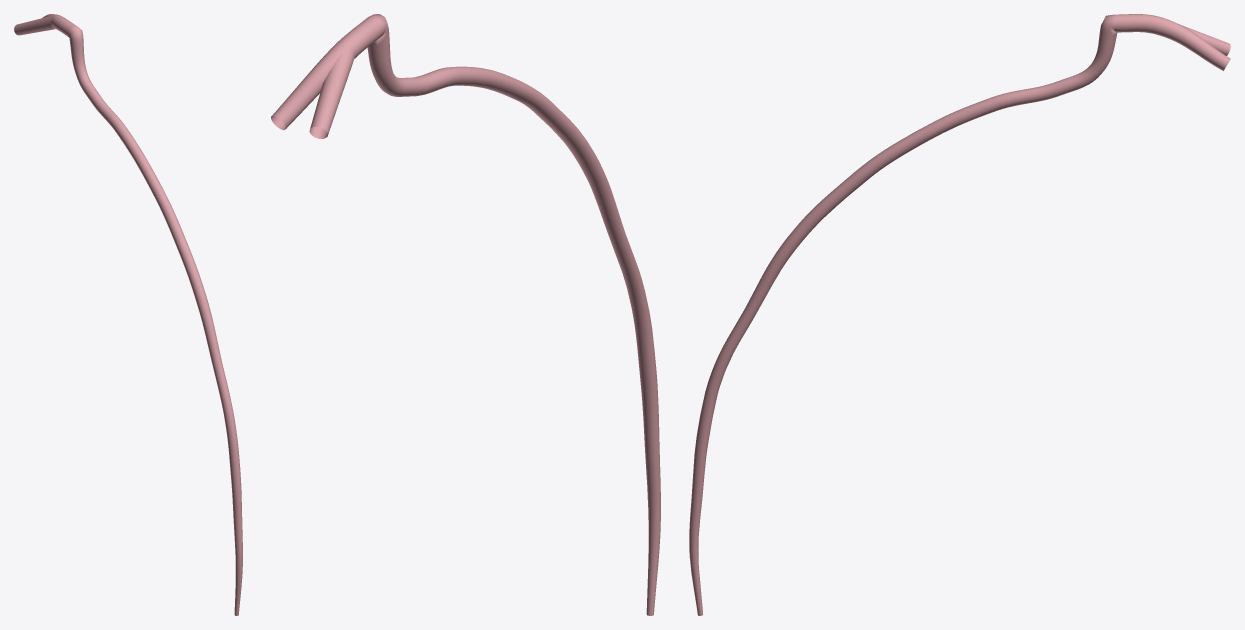
The model's file is circulatorio-deep-dorsal-vein-of-penis.glb.
3 views of the same model, side by side, from view 1: azimuth 30°, elevation 25°; view 2: azimuth 150°, elevation 25°; view 3: azimuth 270°, elevation 25° (orthographic). The views are drawn at different scales.
Parts seen in each view (by area): view 1: Deep dorsal vein of penis; view 2: Deep dorsal vein of penis; view 3: Deep dorsal vein of penis.
Boxes of the visible parts, <box> form: Deep dorsal vein of penis: <box>14,14,242,615</box>; Deep dorsal vein of penis: <box>271,14,660,615</box>; Deep dorsal vein of penis: <box>689,14,1230,615</box>.
Size of the model in its own units: 0.00539 by 0.0728 by 0.0596.
